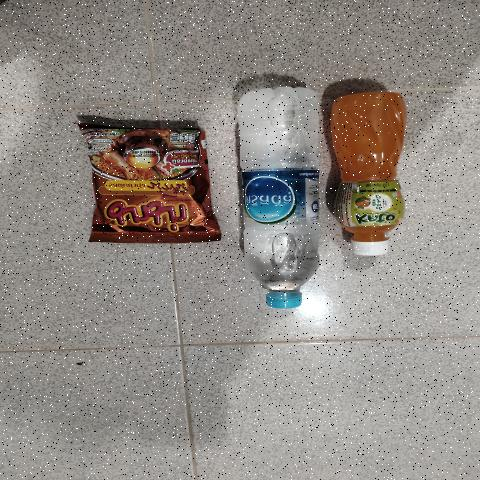crystal: (248, 86, 316, 274)
mama: (98, 131, 200, 239)
